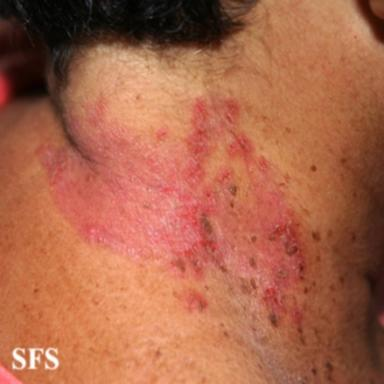Hailey-Hailey-Disease: (39, 98, 304, 313)
